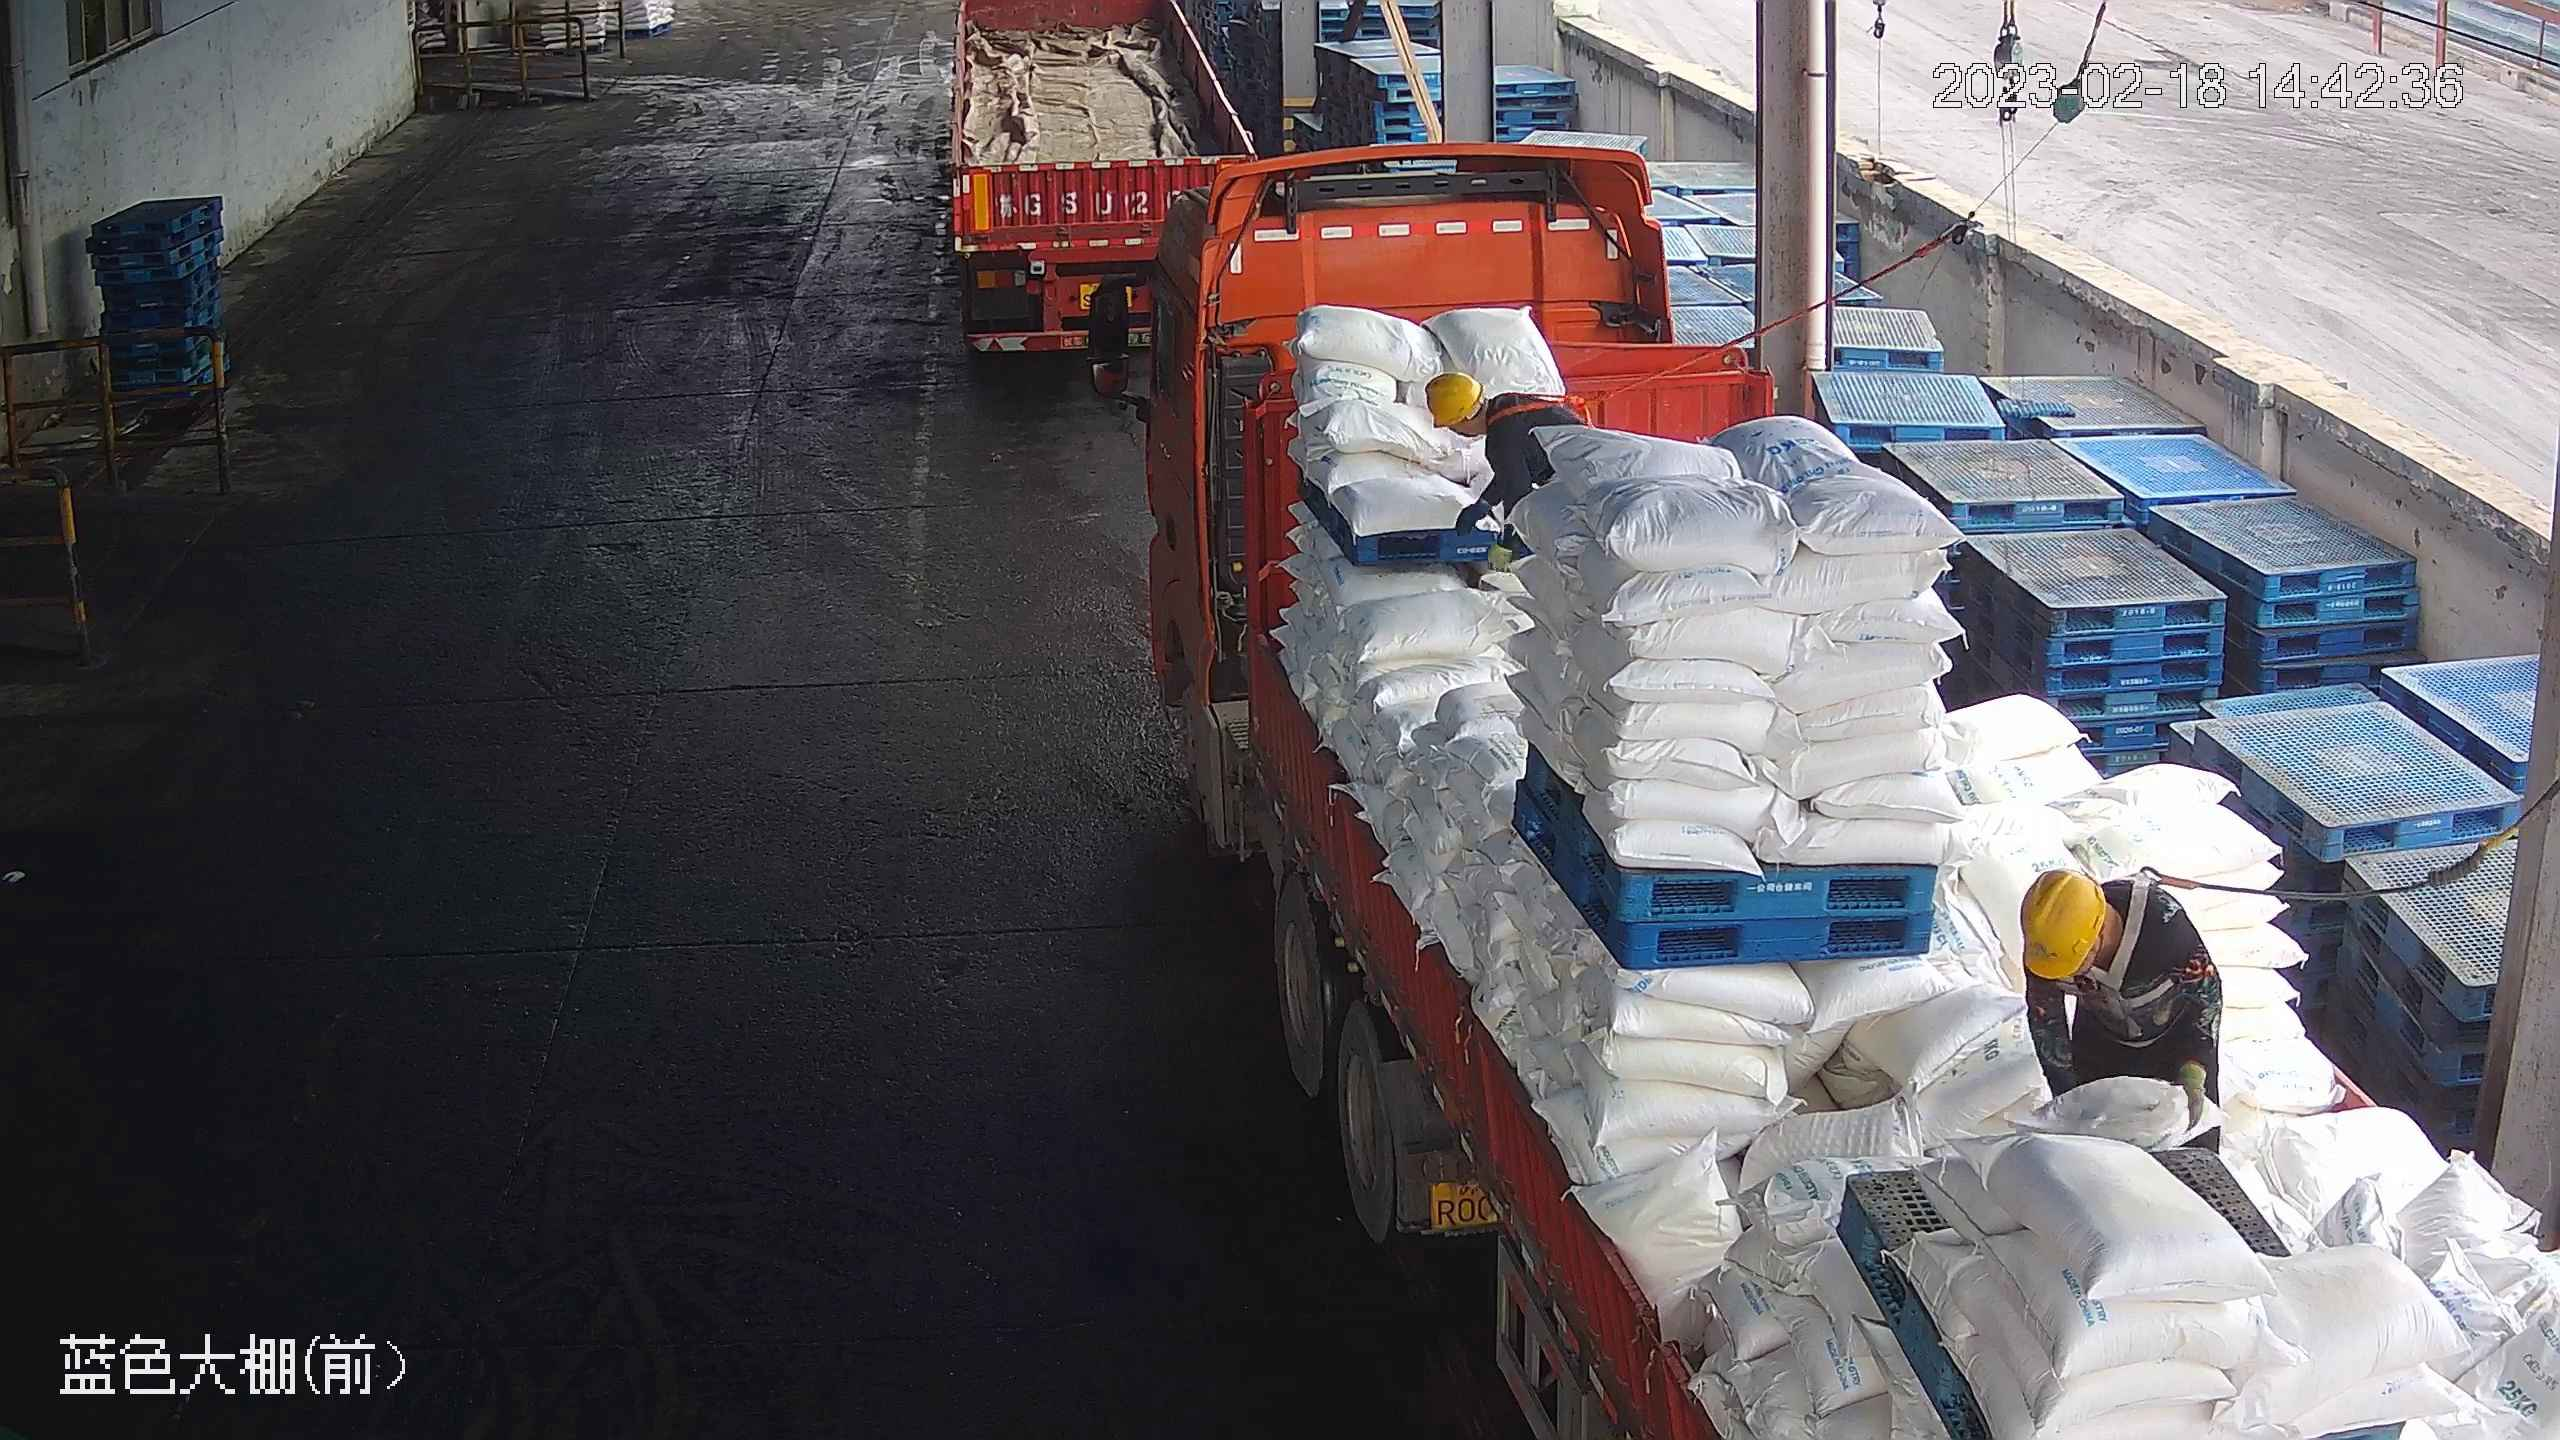belt: (2083, 870, 2165, 1006), (1490, 389, 1579, 437)
head: (2017, 860, 2183, 987), (1426, 368, 1547, 462)
helmet: (2019, 866, 2106, 979), (1424, 366, 1483, 431)
people: (2020, 869, 2227, 1147), (1425, 369, 1580, 569)
truck: (1085, 138, 2558, 1440), (947, 2, 1259, 351)
